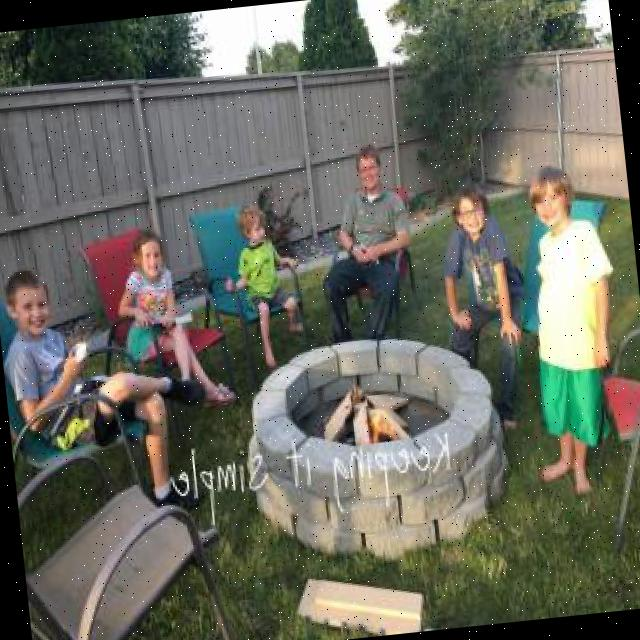fire: (360, 402, 410, 444)
